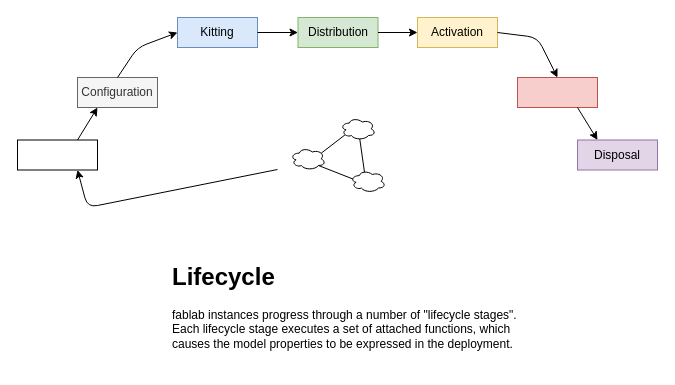
This 675x385 diagram has some shape labels left out. The centre of each missing label's shape, as x and y in pixels:
"Infrastructure" goes at (x=57, y=154).
"Operation" goes at (x=557, y=92).
